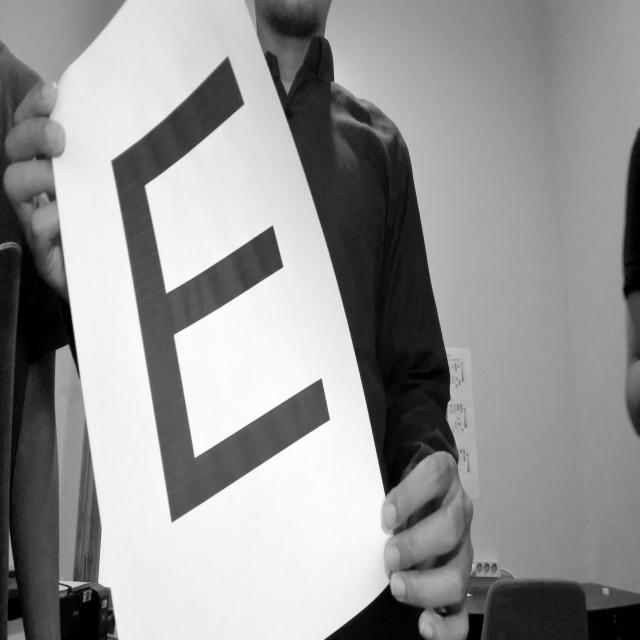e: (104, 39, 350, 546)
